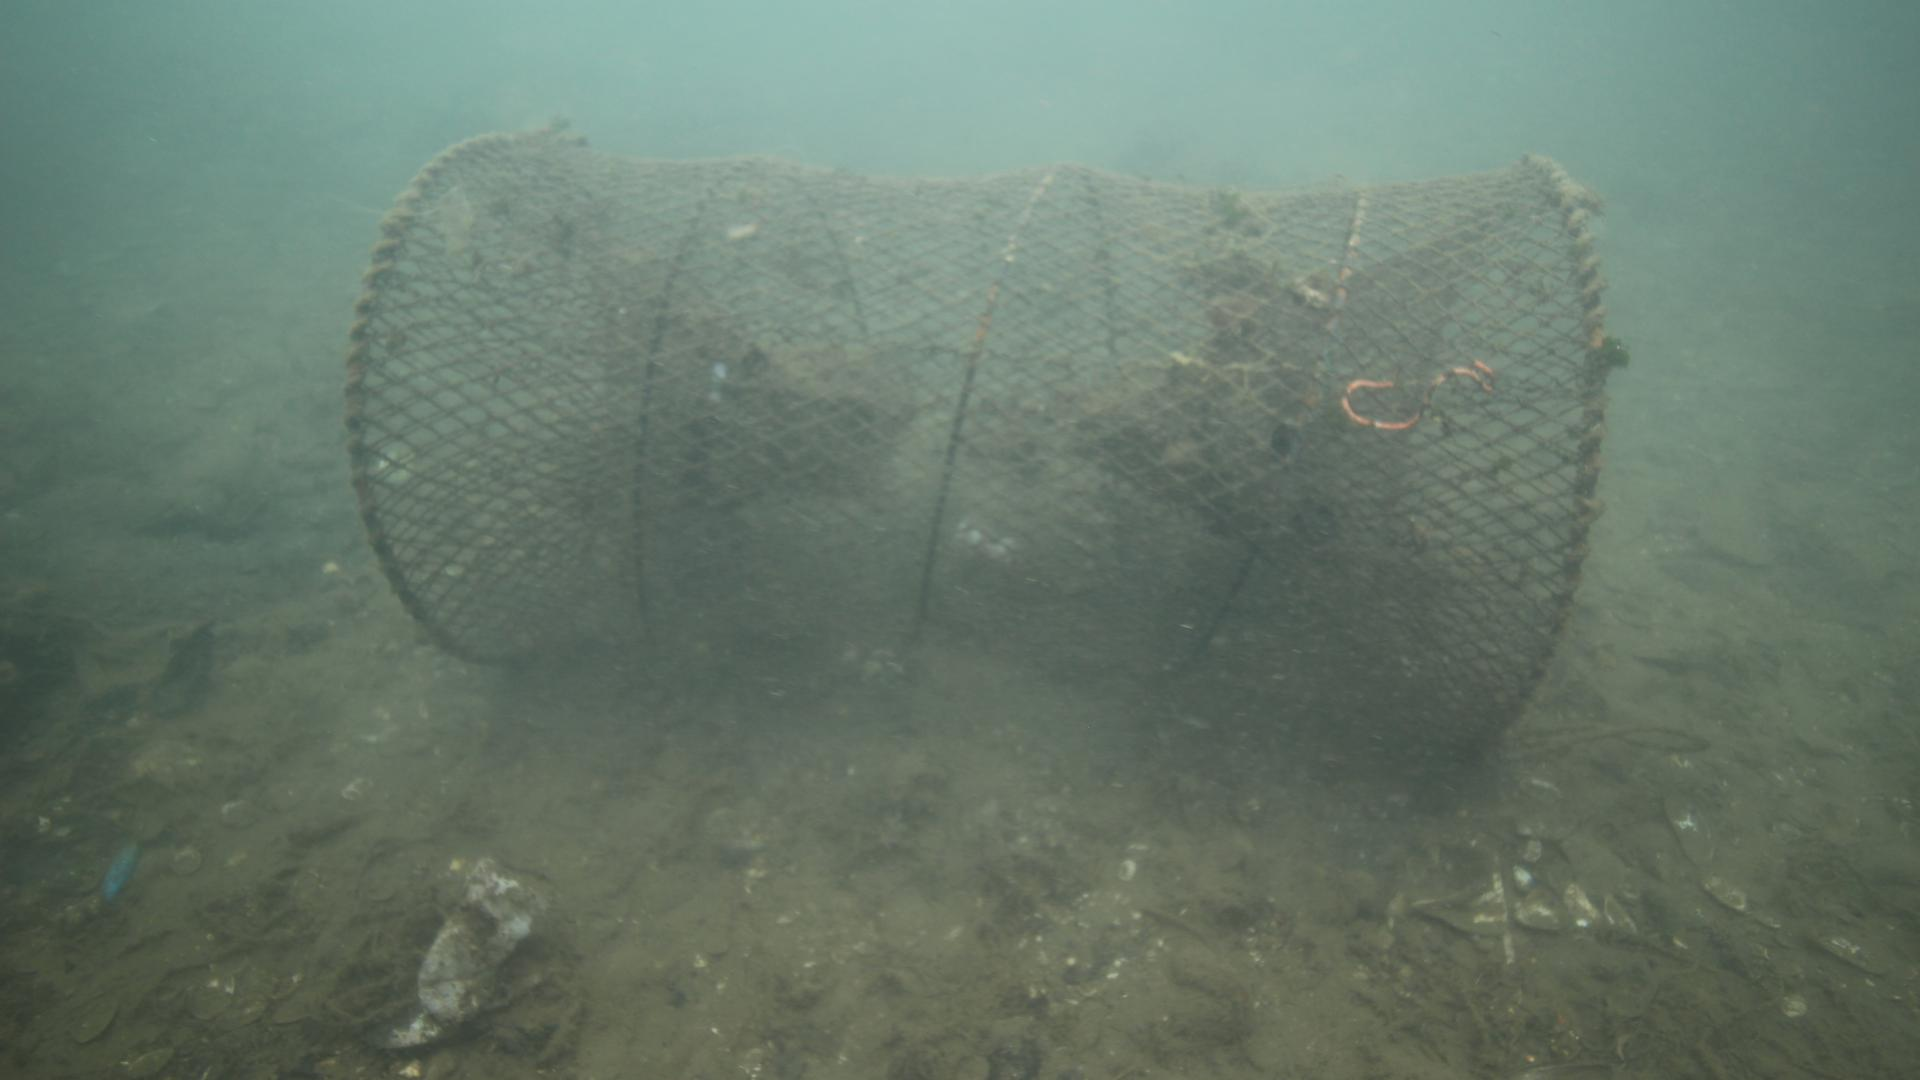spring fish trap: (345, 128, 1611, 762)
